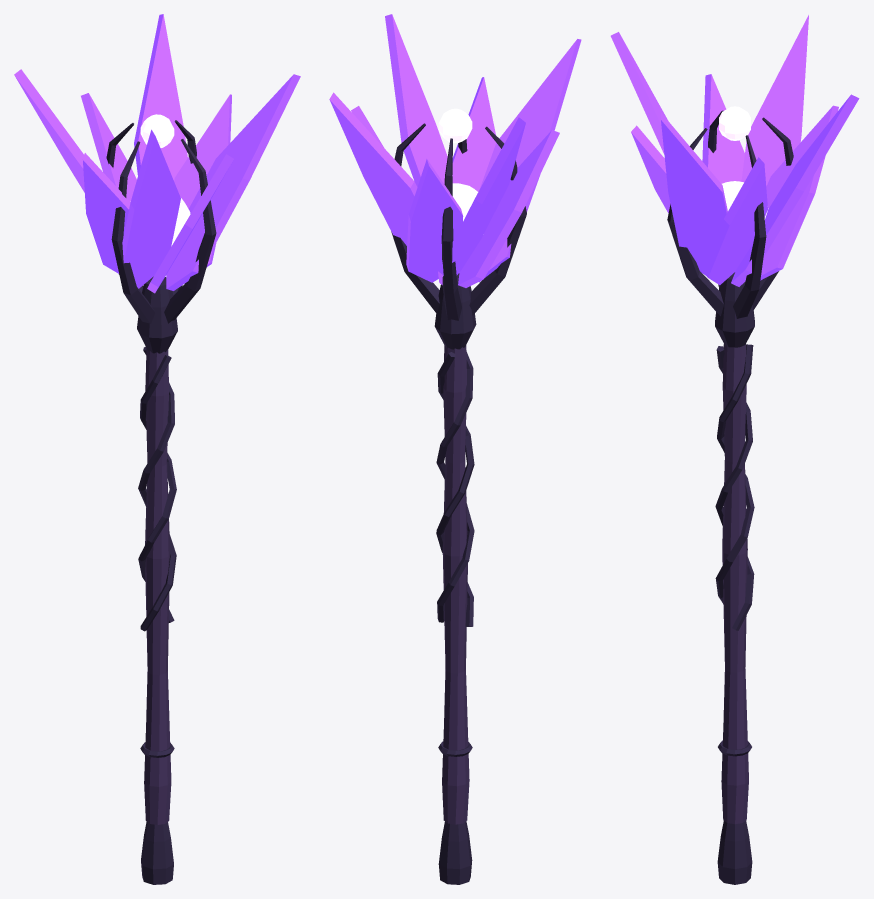
File: staff_violetflame.glb
The picture shows the model from 3 angles, left to right: view 1: azimuth 30°, elevation 25°; view 2: azimuth 150°, elevation 25°; view 3: azimuth 270°, elevation 25°; orthographic projection.
Visible parts, largest first — view 1: Vf_Shaft, Vf_Flame6, Vf_Flame4, Vf_Flame0, Vf_Flame3, Vf_Flame7, Vf_Curl3, Vf_Curl2, Vf_Flame2, Vf_Butt, Vf_Neck, Vf_Flame1 (+4 smaller); view 2: Vf_Shaft, Vf_Flame6, Vf_Flame0, Vf_Flame1, Vf_Flame3, Vf_Flame4, Vf_Flame2, Vf_Flame5, Vf_Curl1, Vf_Butt, Vf_Creeper0, Vf_Neck (+5 smaller); view 3: Vf_Shaft, Vf_Flame6, Vf_Flame2, Vf_Flame7, Vf_Flame0, Vf_Flame1, Vf_Flame3, Vf_Butt, Vf_Creeper1, Vf_Curl0, Vf_Neck, Vf_Creeper0 (+5 smaller).
Part boxes in pixels (box(x1,y1,x2,y2)): Vf_Shaft: box(144, 348, 171, 824); Vf_Flame6: box(166, 74, 300, 290); Vf_Flame4: box(117, 129, 180, 288); Vf_Flame0: box(134, 14, 187, 180); Vf_Flame3: box(83, 153, 130, 273); Vf_Flame7: box(174, 94, 231, 266); Vf_Curl3: box(164, 139, 216, 323); Vf_Curl2: box(111, 141, 155, 323); Vf_Flame2: box(14, 69, 84, 192); Vf_Butt: box(141, 822, 173, 884); Vf_Neck: box(137, 276, 177, 353); Vf_Flame1: box(81, 93, 136, 201); Vf_Shaft: box(442, 345, 469, 824); Vf_Flame6: box(385, 14, 447, 186); Vf_Flame0: box(329, 92, 417, 245); Vf_Flame1: box(406, 159, 463, 282); Vf_Flame3: box(458, 130, 559, 287); Vf_Flame4: box(479, 39, 581, 282); Vf_Flame2: box(438, 117, 525, 285); Vf_Flame5: box(452, 77, 496, 191); Vf_Curl1: box(441, 138, 461, 320); Vf_Butt: box(438, 821, 472, 884); Vf_Creeper0: box(436, 352, 474, 622); Vf_Neck: box(434, 273, 476, 349); Vf_Shaft: box(721, 344, 748, 824); Vf_Flame6: box(661, 113, 727, 275); Vf_Flame2: box(741, 15, 808, 186); Vf_Flame7: box(702, 157, 767, 284); Vf_Flame0: box(731, 94, 859, 286); Vf_Flame1: box(760, 105, 838, 280); Vf_Flame3: box(702, 74, 744, 183); Vf_Butt: box(717, 821, 752, 884); Vf_Creeper1: box(715, 344, 754, 603); Vf_Curl0: box(733, 135, 766, 318); Vf_Neck: box(715, 272, 754, 347); Vf_Creeper0: box(715, 346, 754, 630).
Bounding box in the file's own units: 0.688 × 2.48 × 0.688.
